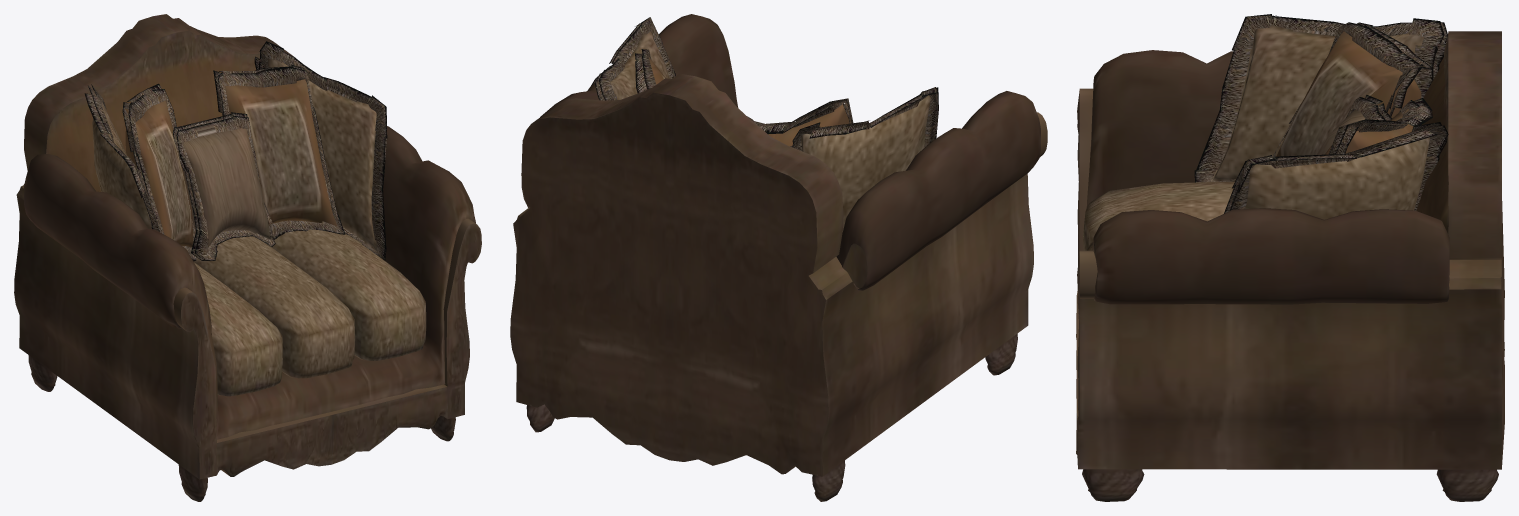
Rendered from ph-sofa-03.glb.
3 renders of one model, left to right at view 1: azimuth 30°, elevation 25°; view 2: azimuth 150°, elevation 25°; view 3: azimuth 270°, elevation 25°, orthographic. The views are drawn at different scales.
Parts seen in each view (by area): view 1: sofa_03; view 2: sofa_03; view 3: sofa_03.
Boxes of the visible parts, left/top/right/bottom form: sofa_03: left=14, top=14, right=481, bottom=501; sofa_03: left=510, top=14, right=1047, bottom=501; sofa_03: left=1076, top=14, right=1504, bottom=501.
Bounding box in the file's own units: 1 × 1 × 1.
2 materials, 2 textured.
